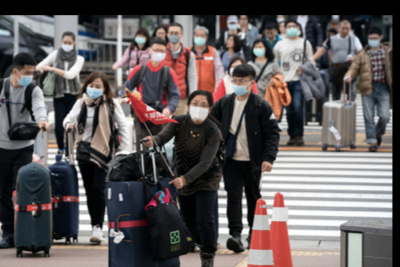mask_weared_incorrect: (266, 30, 276, 42)
with_mask: (189, 99, 210, 122), (231, 77, 249, 96), (17, 69, 35, 87), (86, 83, 103, 99), (150, 46, 166, 63), (167, 30, 182, 45), (193, 33, 207, 47), (228, 64, 242, 78), (61, 40, 74, 53), (134, 33, 147, 45), (286, 24, 298, 37), (368, 36, 380, 48), (252, 46, 265, 57), (227, 22, 237, 31), (297, 27, 302, 36)
without_mask: (339, 26, 351, 36), (239, 17, 249, 27), (225, 37, 234, 48), (156, 32, 166, 40), (279, 25, 287, 34)
